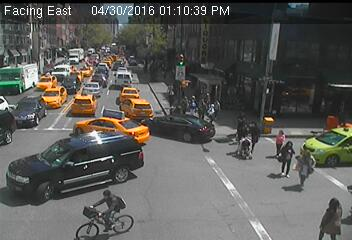neg: (83, 172, 132, 238), (34, 137, 67, 180), (4, 162, 36, 205), (67, 137, 91, 168), (266, 95, 288, 125), (293, 110, 314, 138), (195, 122, 216, 149), (165, 112, 184, 137), (313, 127, 332, 152), (45, 47, 63, 72), (181, 115, 199, 139), (328, 152, 346, 176), (8, 73, 26, 97), (17, 61, 35, 85), (27, 58, 44, 81), (62, 48, 79, 70), (103, 44, 117, 63), (90, 73, 104, 91), (156, 98, 169, 115), (75, 44, 87, 61), (88, 48, 97, 59)
pos: (315, 191, 350, 239), (291, 148, 321, 188), (274, 139, 303, 178), (227, 113, 255, 151), (243, 120, 268, 153), (269, 129, 292, 160), (204, 102, 221, 125), (194, 98, 211, 120), (185, 94, 201, 115), (177, 95, 192, 115), (210, 98, 223, 115), (201, 92, 213, 107)
